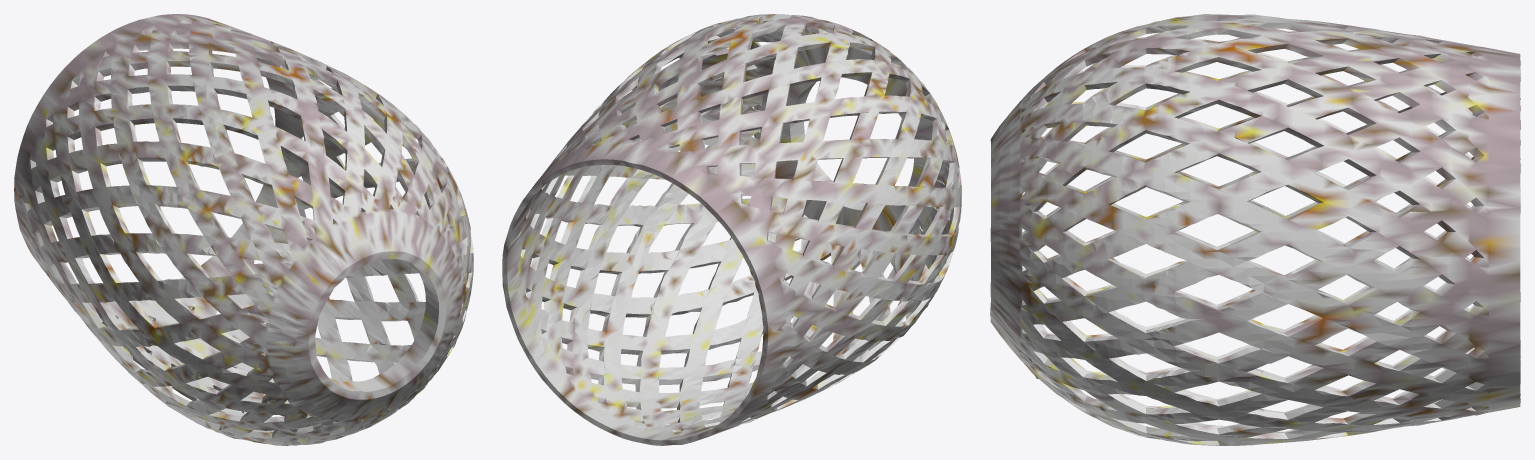
The model's file is lamp_shade_14_final300.obj.
3 views of the same model, side by side, from view 1: azimuth 30°, elevation 25°; view 2: azimuth 150°, elevation 25°; view 3: azimuth 270°, elevation 25° (orthographic). The views are drawn at different scales.
Bounding box in the file's own units: 1.21 × 1.21 × 1.49.
